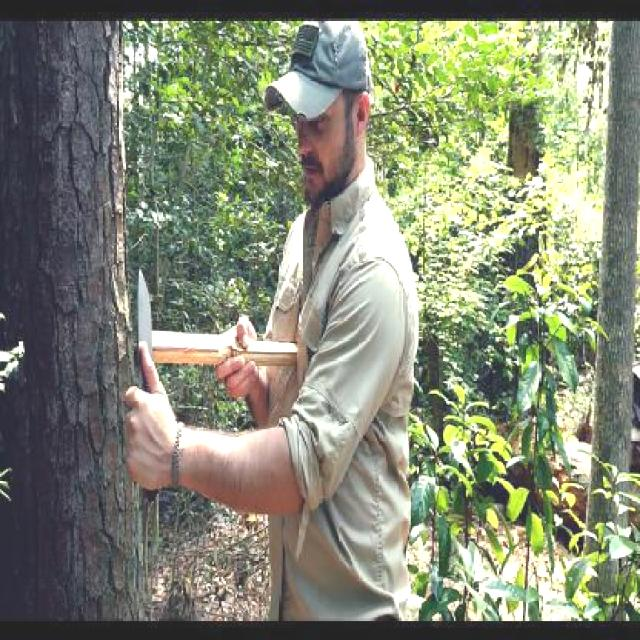knife: (120, 262, 171, 472)
